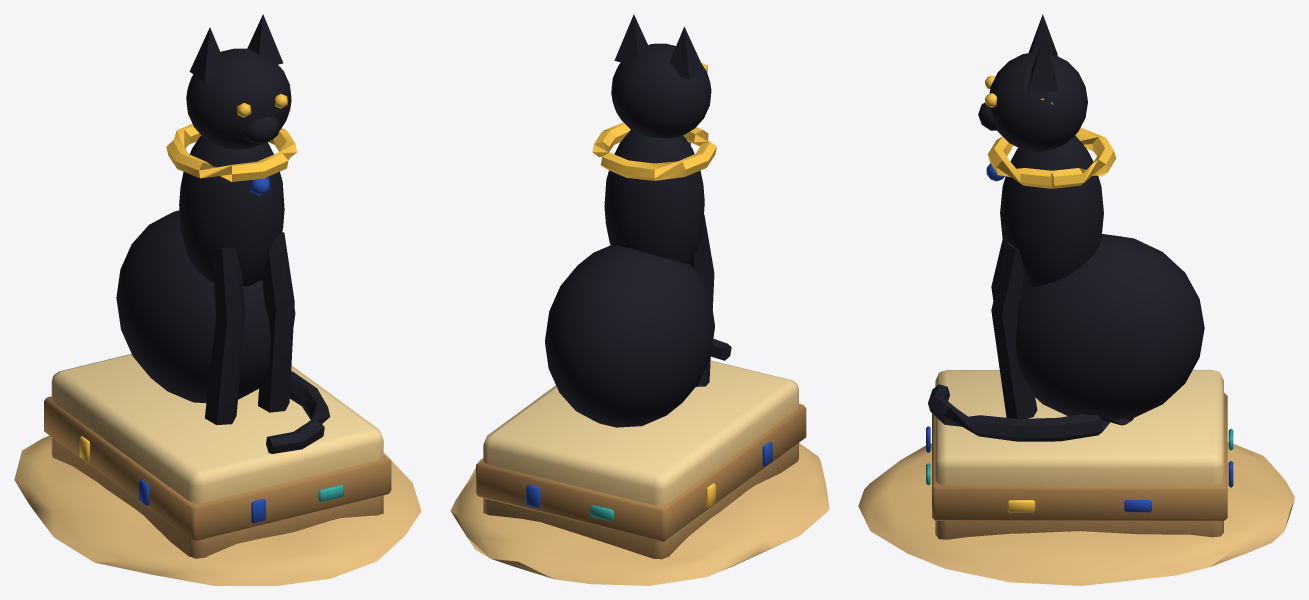
File: CatStatue.fbx
3 views of the same model, side by side, from view 1: azimuth 30°, elevation 25°; view 2: azimuth 150°, elevation 25°; view 3: azimuth 270°, elevation 25° (orthographic). The views are drawn at different scales.
Visible parts, largest first — view 1: CatStatue; view 2: CatStatue; view 3: CatStatue.
Part boxes in pixels (box(x1,y1,x2,y2)): CatStatue: box(14, 14, 421, 585); CatStatue: box(450, 14, 829, 585); CatStatue: box(858, 14, 1294, 585).
Bounding box in the file's own units: 1.63 × 2.29 × 1.89.
Materials: 1 (1 with a texture image).
